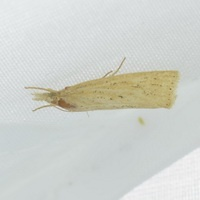insect: (25, 57, 179, 111)
